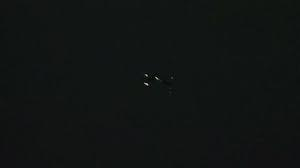Plane: (135, 68, 163, 93)
